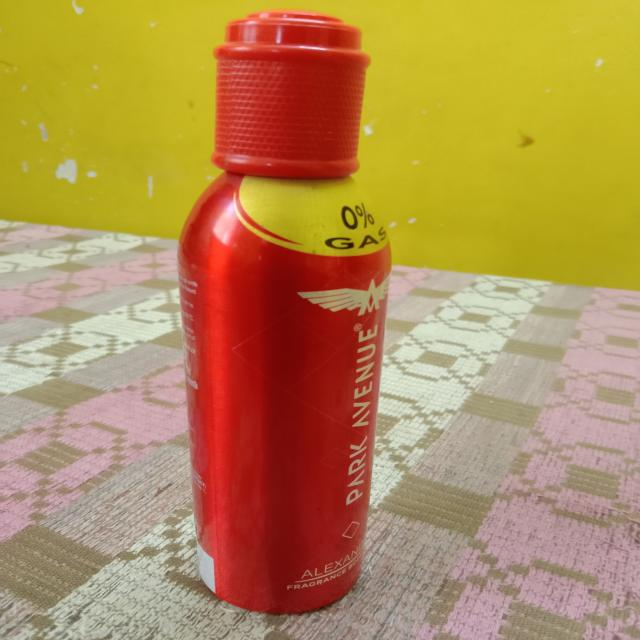deodorant: (166, 8, 398, 609)
